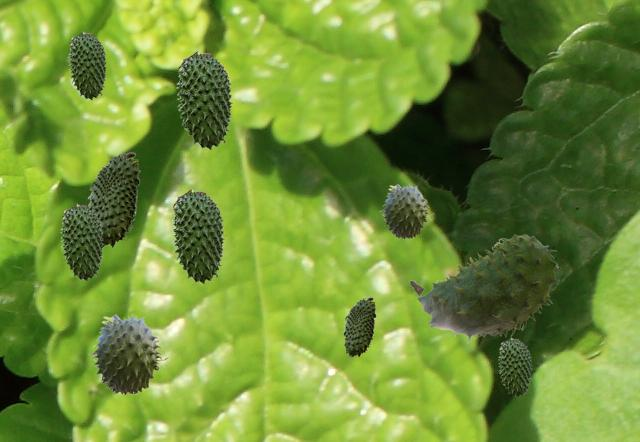guyabano: (409, 234, 559, 342), (88, 313, 168, 394), (176, 50, 232, 149), (171, 188, 224, 283), (87, 152, 139, 247), (60, 203, 103, 280), (379, 183, 433, 238), (68, 31, 106, 99), (498, 337, 531, 396), (343, 297, 375, 356)
